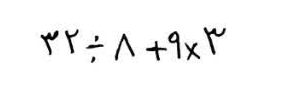character: (202, 25, 228, 57), (113, 31, 137, 63), (84, 33, 106, 65), (38, 28, 61, 57), (143, 39, 169, 63), (166, 29, 183, 61), (64, 27, 81, 55), (182, 41, 202, 63)
